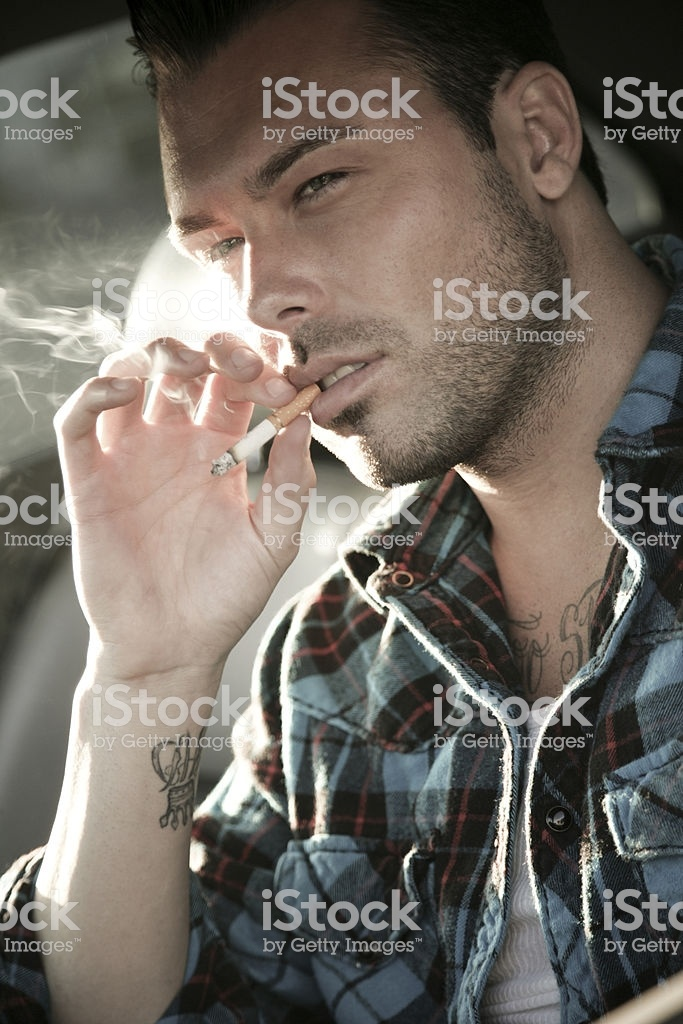sigaretta: (211, 375, 327, 477)
